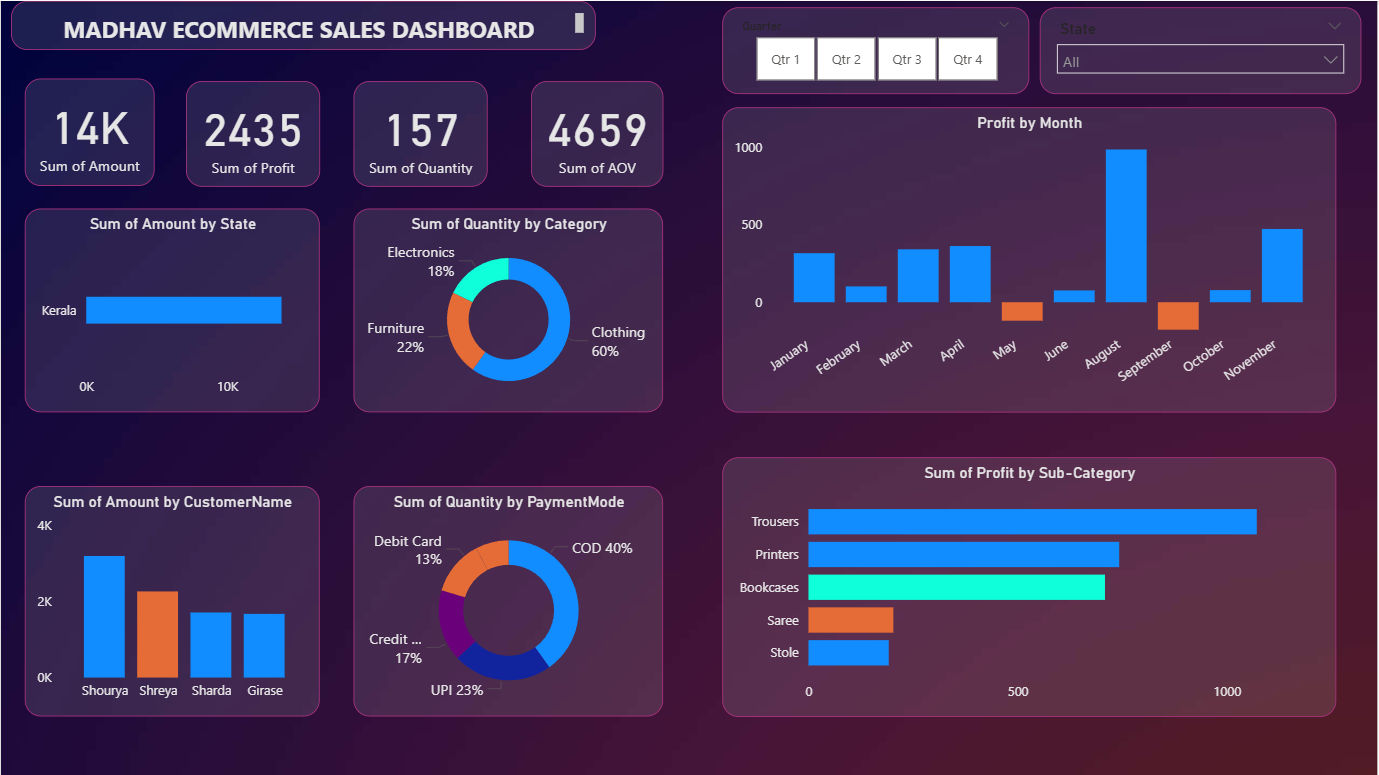

The dashboard page shown, as its layout file describes it:
{"tool":"powerbi","page":{"name":"Page 1","canvas":[1280,720],"ordinal":0},"visuals":[{"type":"textbox","box":[9.3,0,544.2,45.3],"z":0},{"type":"columnChart","title":"Profit by Month","fields":{"Y":["Sum(Details.Profit)"],"Category":["Orders.Order Date.Variation.Date Hierarchy.Month"]},"box":[671,98.8,570.8,284],"z":1},{"type":"barChart","fields":{"Category":["Details.Sub-Category"],"Y":["Sum(Details.Profit)"]},"box":[671,424,570.8,241.5],"z":2},{"type":"donutChart","fields":{"Category":["Details.PaymentMode"],"Y":["Sum(Details.Quantity)"]},"box":[328,451.5,288.2,214.1],"z":3},{"type":"donutChart","fields":{"Category":["Details.Category"],"Y":["Sum(Details.Quantity)"]},"box":[328,193.5,288.2,189.4],"z":4},{"type":"card","fields":{"Values":["Sum(Details.Amount)"]},"box":[22.1,72.1,120.9,100],"z":5},{"type":"card","fields":{"Values":["Sum(Details.Profit)"]},"box":[171.5,74.1,124.9,98.8],"z":6},{"type":"card","fields":{"Values":["Sum(Details.Quantity)"]},"box":[328,74.1,124.9,98.8],"z":7},{"type":"card","fields":{"Values":["Sum(Details.AOV)"]},"box":[492.6,74.1,123.5,98.8],"z":8},{"type":"barChart","fields":{"Category":["Orders.State"],"Y":["Sum(Details.Amount)"]},"box":[22,193.5,274.4,189.4],"z":9},{"type":"columnChart","fields":{"Category":["Orders.CustomerName"],"Y":["Sum(Details.Amount)"]},"box":[22,451,274,214],"z":10},{"type":"slicer","fields":{"Values":["Orders.Order Date.Variation.Date Hierarchy.Quarter"]},"box":[671,5.5,285.4,81],"z":11},{"type":"slicer","fields":{"Values":["Orders.State"]},"box":[966,5.5,299.1,81],"z":12}]}

Visuals, with their boxes in screenshot pixels (x1, y1, x2, y2), scaled from the page's 1280x720 canvas onto the 1379x775 screenshot:
textbox: [left=10, top=0, right=596, bottom=49]
"Profit by Month" columnChart: [left=723, top=106, right=1338, bottom=412]
barChart - Details.Sub-Category x Sum(Details.Profit): [left=723, top=456, right=1338, bottom=716]
donutChart - Details.PaymentMode x Sum(Details.Quantity): [left=353, top=486, right=664, bottom=716]
donutChart - Details.Category x Sum(Details.Quantity): [left=353, top=208, right=664, bottom=412]
card - Sum(Details.Amount): [left=24, top=78, right=154, bottom=185]
card - Sum(Details.Profit): [left=185, top=80, right=319, bottom=186]
card - Sum(Details.Quantity): [left=353, top=80, right=488, bottom=186]
card - Sum(Details.AOV): [left=531, top=80, right=664, bottom=186]
barChart - Orders.State x Sum(Details.Amount): [left=24, top=208, right=319, bottom=412]
columnChart - Orders.CustomerName x Sum(Details.Amount): [left=24, top=485, right=319, bottom=716]
slicer - Orders.Order Date.Variation.Date Hierarchy.Quarter: [left=723, top=6, right=1030, bottom=93]
slicer - Orders.State: [left=1041, top=6, right=1363, bottom=93]
